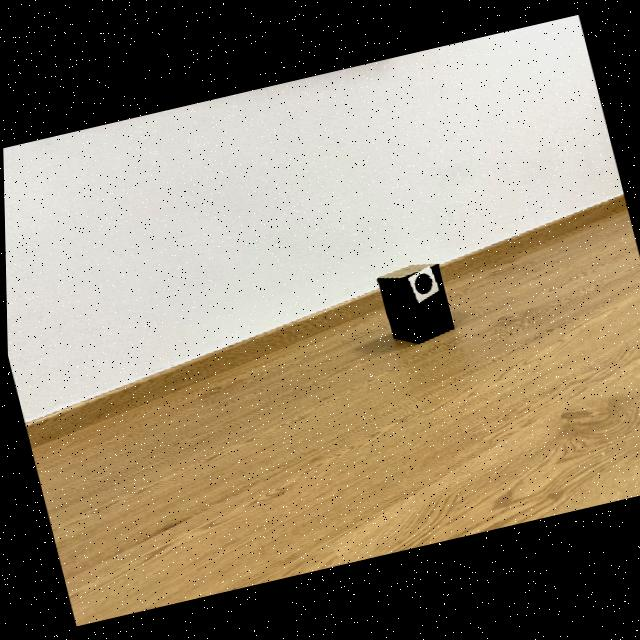CIRCLE: (413, 273, 431, 294)
